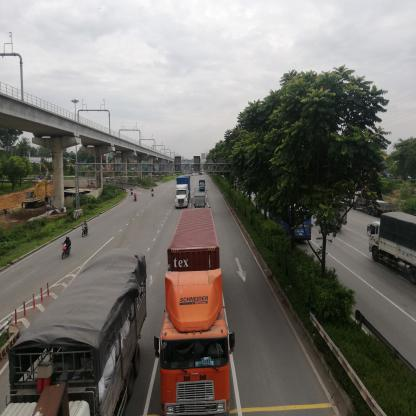container: (160, 212, 230, 416), (177, 177, 191, 211)
motorbike: (61, 237, 72, 260), (81, 224, 91, 238), (152, 190, 156, 197), (135, 194, 138, 202), (131, 189, 134, 197)
truck: (10, 258, 147, 416), (370, 207, 416, 281), (195, 195, 208, 209), (201, 181, 206, 194)
